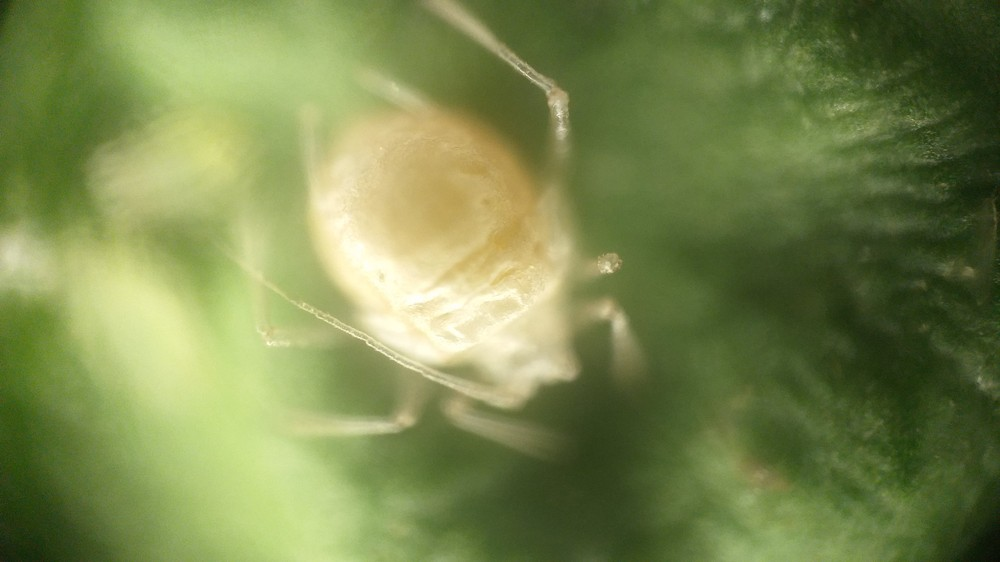Pulgon: (229, 7, 684, 491)
